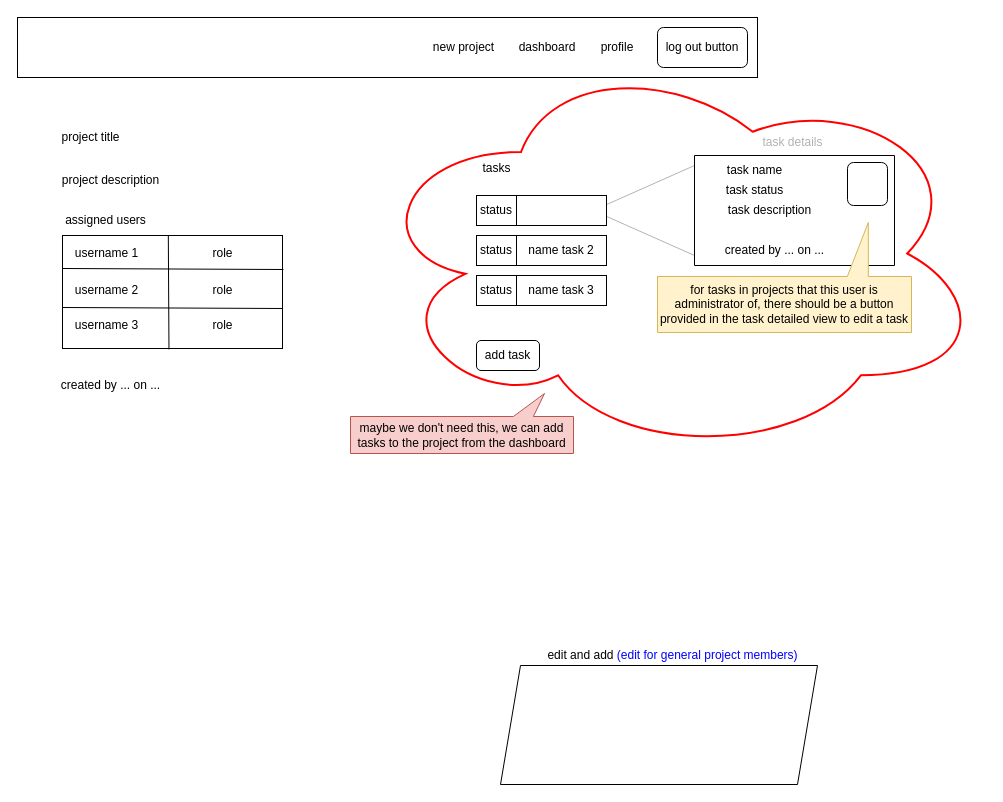
Some shapes in this 1003 by 802 pixel diagram are drawn without their labels. Each missing label, with the box of its shape:
edit task: (846, 162, 888, 206)
name task 1: (516, 194, 606, 226)
navigation bar title ("Task Manager"): (16, 16, 758, 78)
task name task description task status table with 'user': (500, 664, 818, 784)
